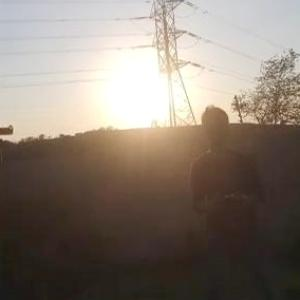follow: (187, 99, 269, 299)
